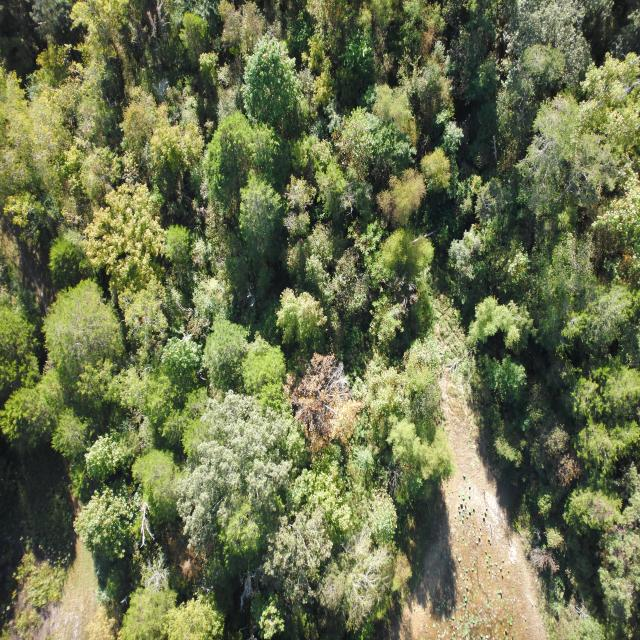Area of Interest: (7, 11, 633, 636)
